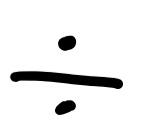div: (8, 33, 124, 117)
